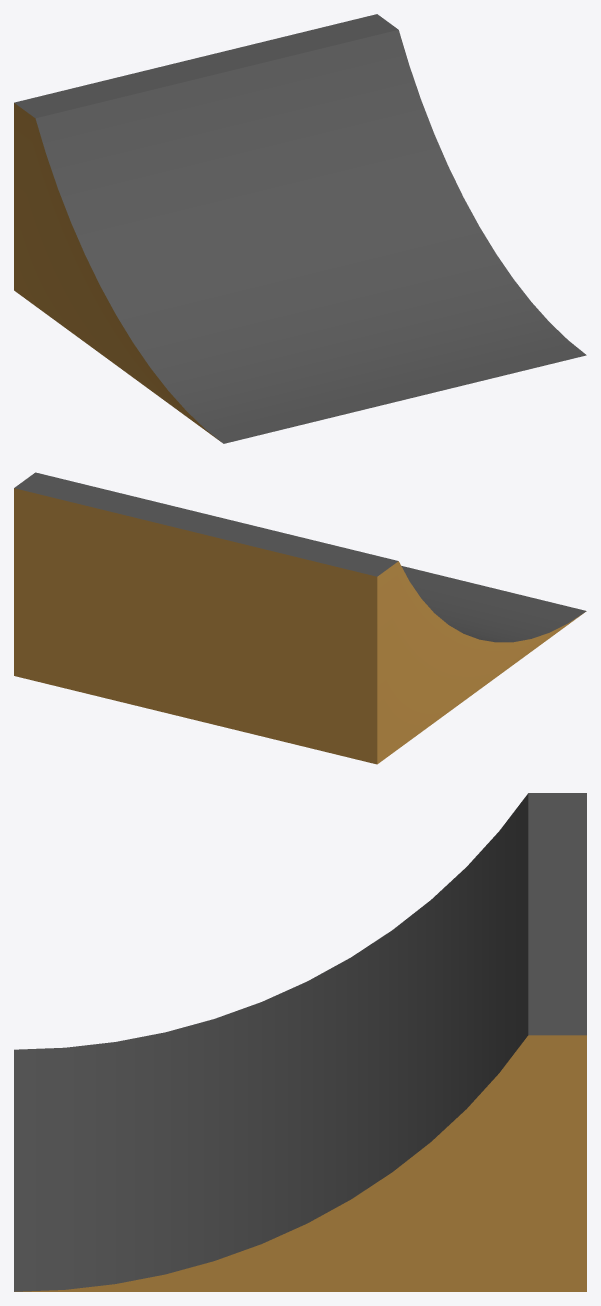
The model's file is Skate_Bowl_Side_01.FBX.
The picture shows the model from 3 angles, top to bottom: view 1: azimuth 30°, elevation 25°; view 2: azimuth 150°, elevation 25°; view 3: azimuth 270°, elevation 25°; orthographic projection. The views are drawn at different scales.
Visible parts, largest first — view 1: Skate_Bowl_Side_01; view 2: Skate_Bowl_Side_01; view 3: Skate_Bowl_Side_01.
Boxes of the visible parts, x1=… form: Skate_Bowl_Side_01: x1=14, y1=14, x2=586, y2=443; Skate_Bowl_Side_01: x1=14, y1=472, x2=586, y2=764; Skate_Bowl_Side_01: x1=14, y1=793, x2=586, y2=1291.
Bounding box in the file's own units: 3 × 1.48 × 3.
